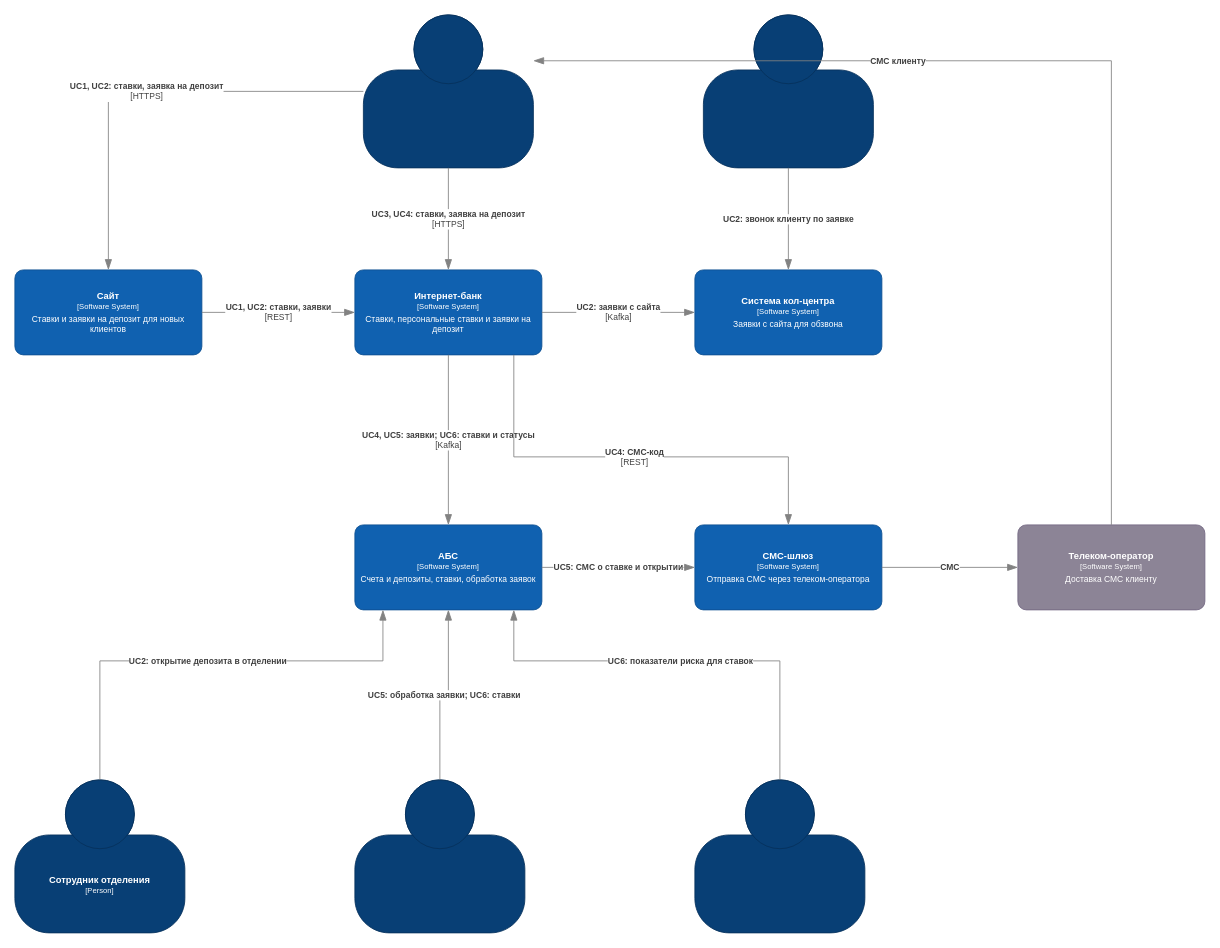
Image size: 1220x948. Some labels were removed from this diagram. Here are the shapes that lost their labels. From the top down, the centre of each, then its label:
At point 448,91: "Клиент [Person]".
At point 788,91: "Оператор кол-центра [Person]".
At point 439,856: "Менеджер бэк-офиса депозитов [Person]".
At point 779,856: "Менеджер отдела кредитования [Person]".
